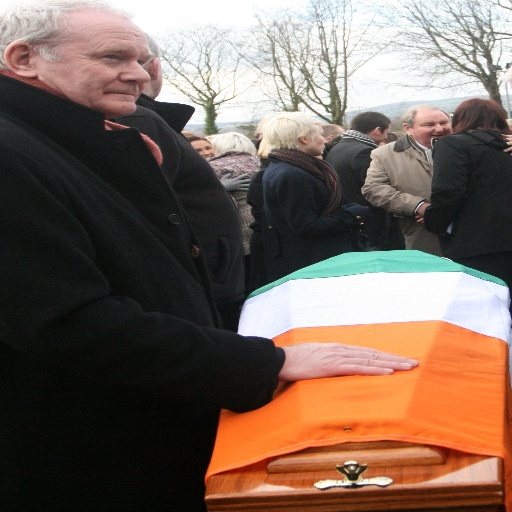hand: (260, 343, 414, 387), (217, 169, 253, 191), (497, 134, 511, 156), (414, 214, 428, 227)
